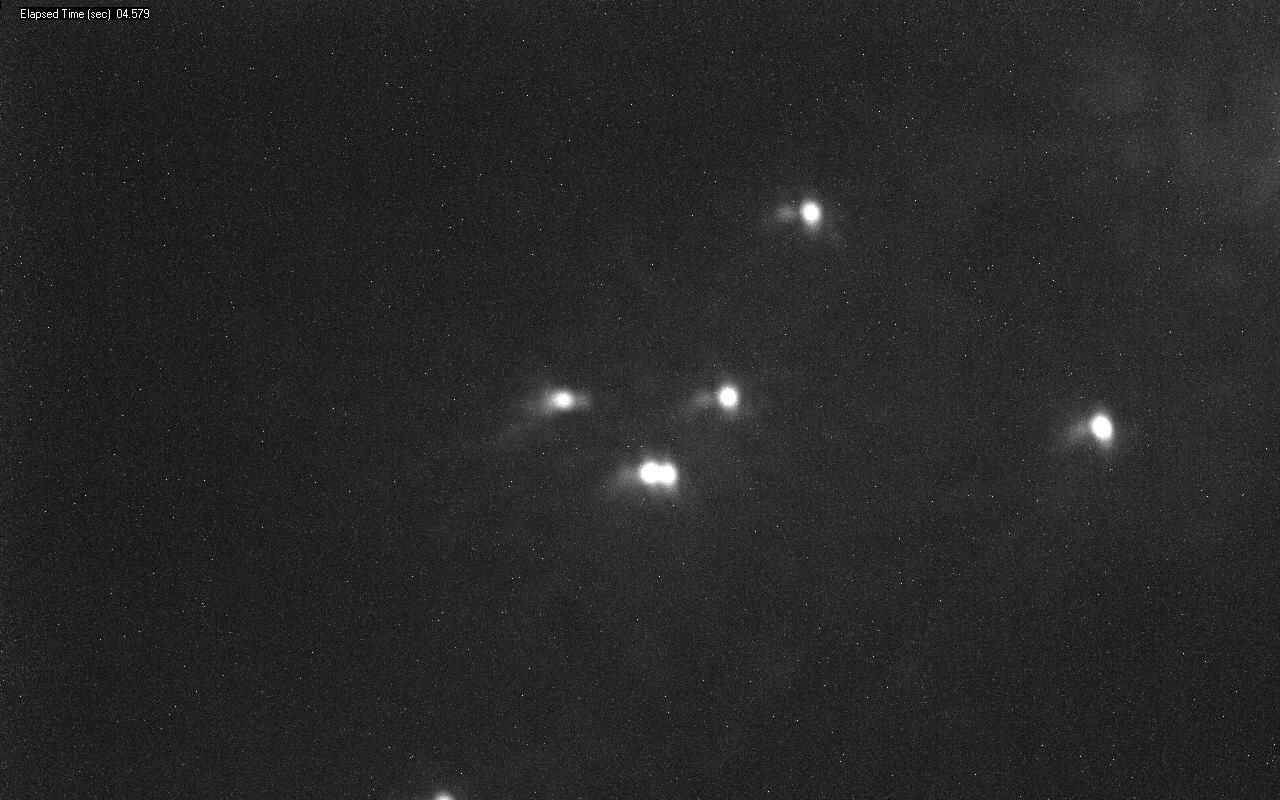Bead: (787, 201, 822, 228), (547, 390, 586, 410), (714, 384, 739, 410), (1089, 415, 1113, 442)
